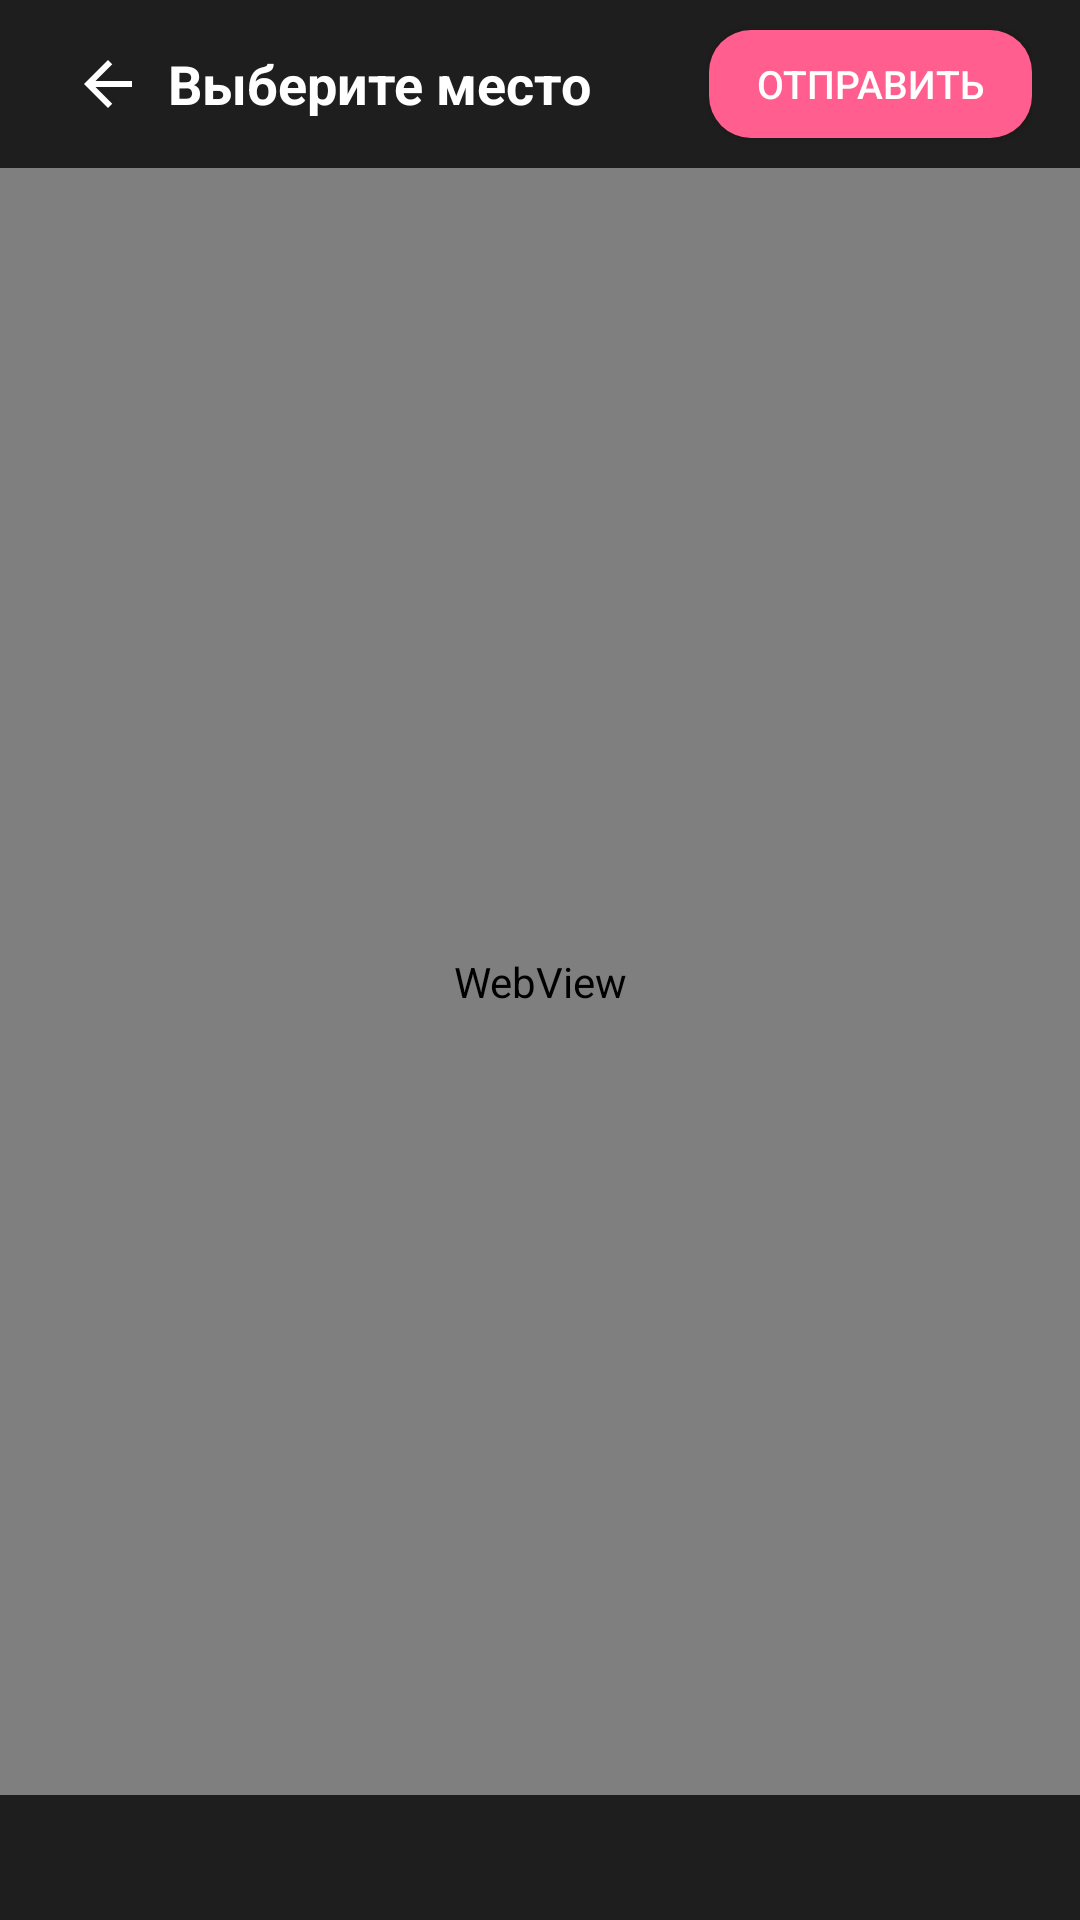

Where to tap for icons on this 1080px x 1920px app screen, as point (x, y):
arrow back: point (108, 84)
